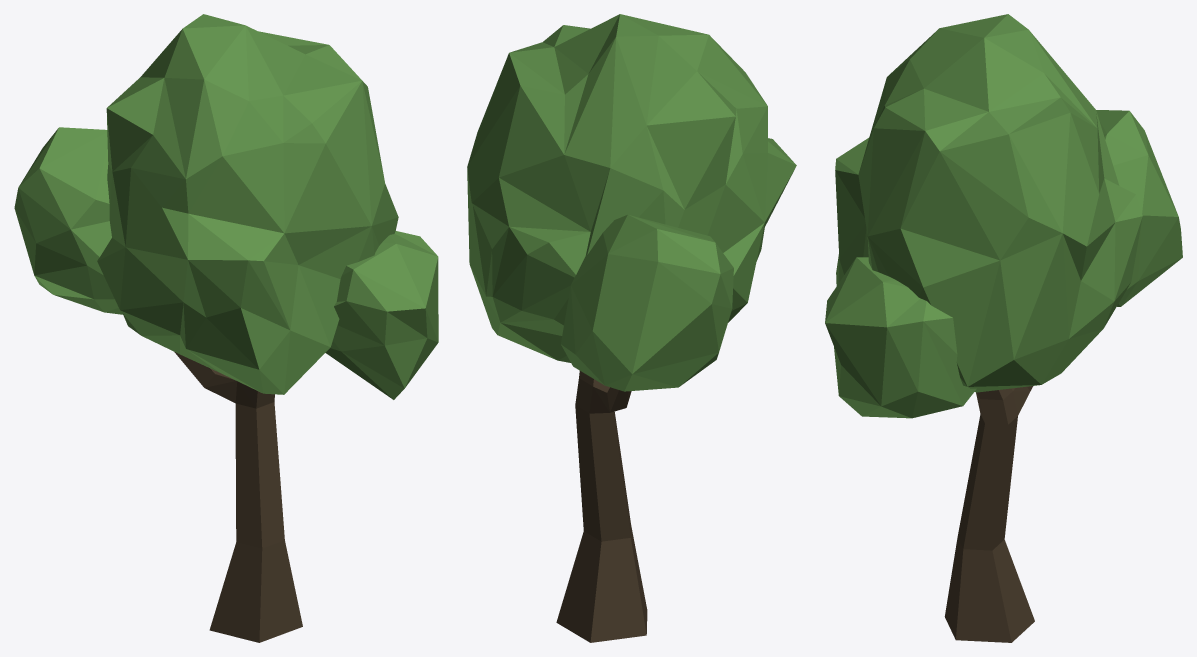
Rendered from qianlvshu.FBX.
The picture shows the model from 3 angles, left to right: view 1: azimuth 30°, elevation 25°; view 2: azimuth 150°, elevation 25°; view 3: azimuth 270°, elevation 25°; orthographic projection. The views are drawn at different scales.
Visible parts, largest first — view 1: 对象005; view 2: 对象005; view 3: 对象005.
Part boxes in pixels (box(x1,y1,x2,y2)): 对象005: box(14, 14, 438, 642); 对象005: box(467, 14, 796, 642); 对象005: box(825, 14, 1182, 642).
Size of the model in its own units: 27.23 by 50.33 by 28.05.
